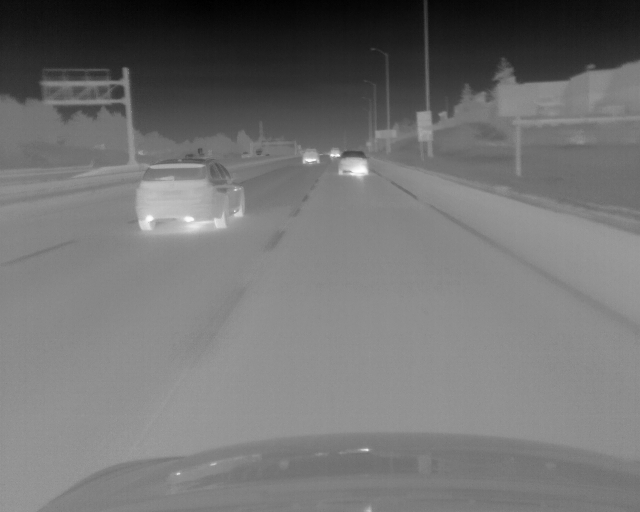car: (134, 159, 246, 231), (339, 151, 368, 176), (303, 148, 320, 164), (330, 147, 339, 158)
